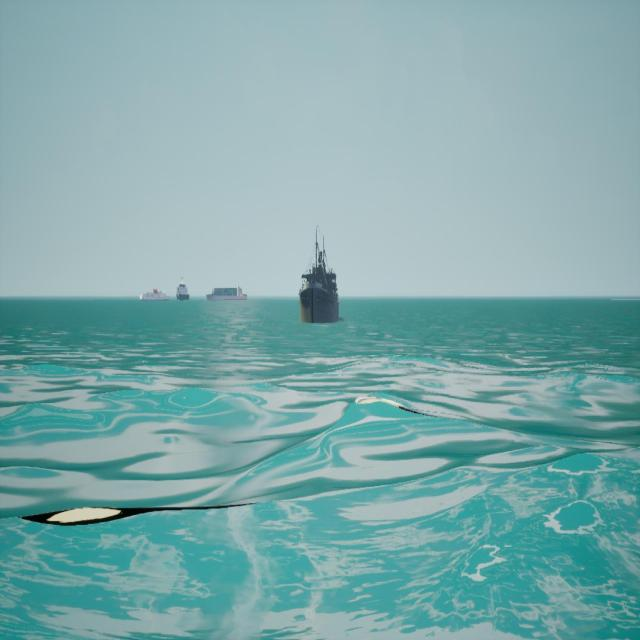fishing ship: (299, 227, 340, 325)
